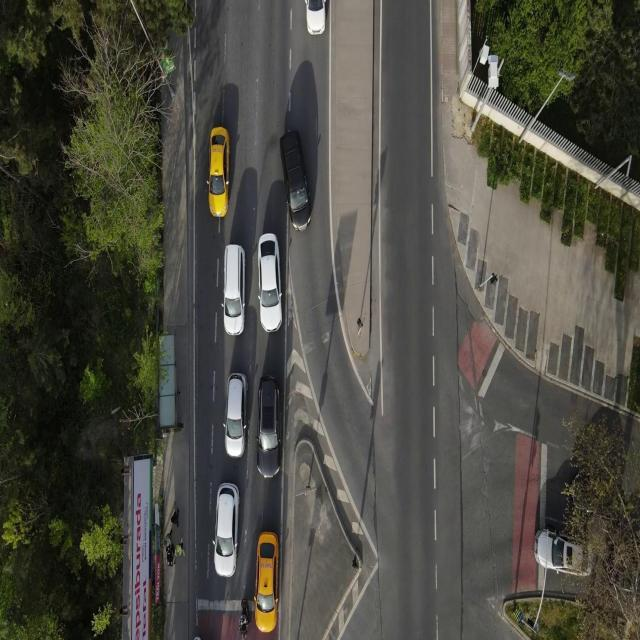p3rson: (175, 537, 185, 558), (171, 508, 179, 528), (164, 529, 172, 548)
